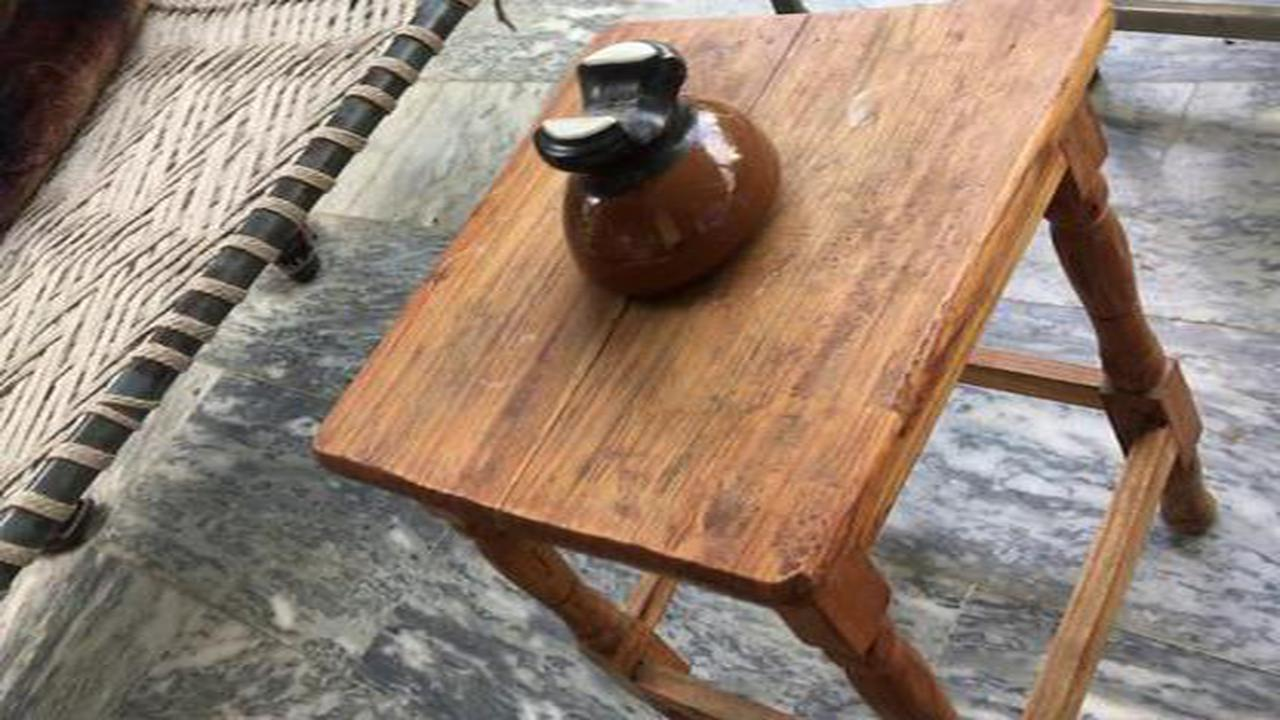insulator_pin: (514, 37, 801, 322)
